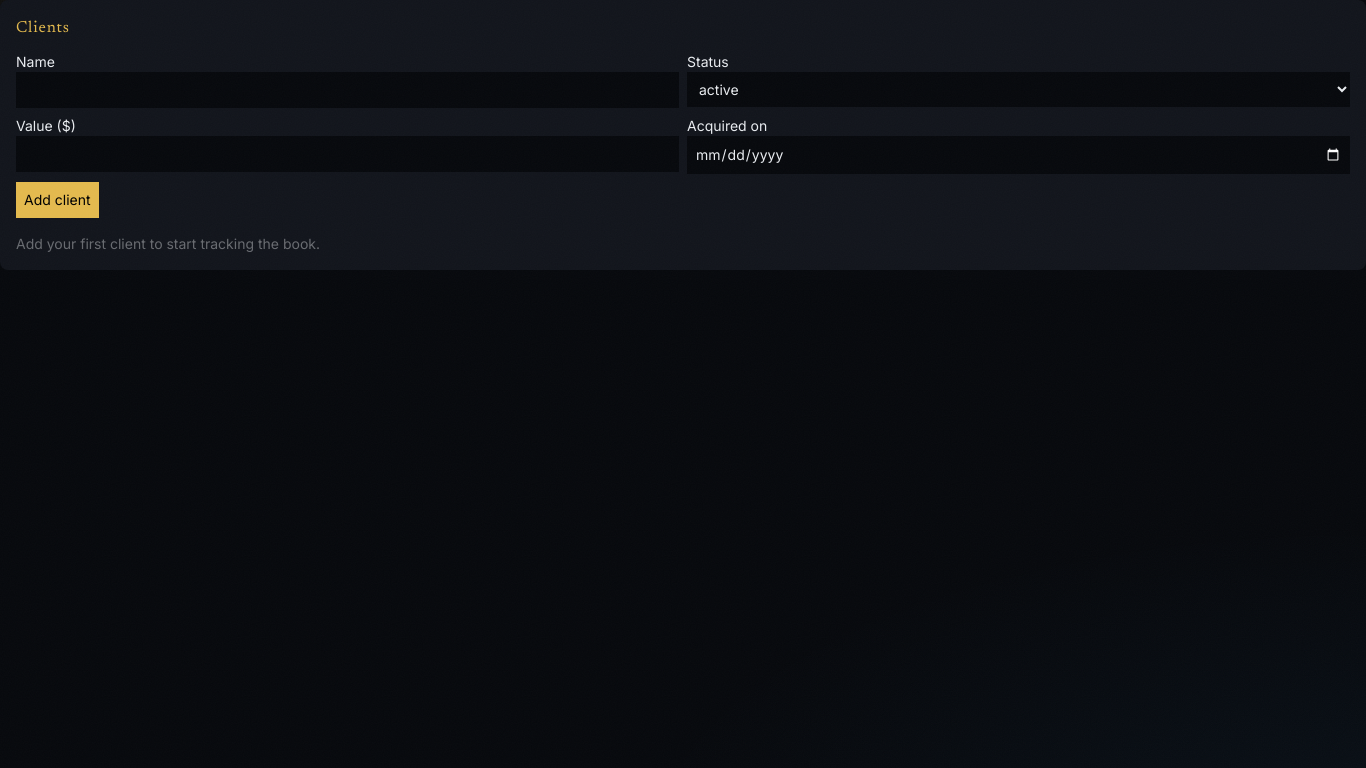
ClientsAdmin › surfaces a server validation error, never failing silently
Type "2026-01-01" into the date field labelled "Acquired on" at (1018, 155), box [687,136,1350,174]
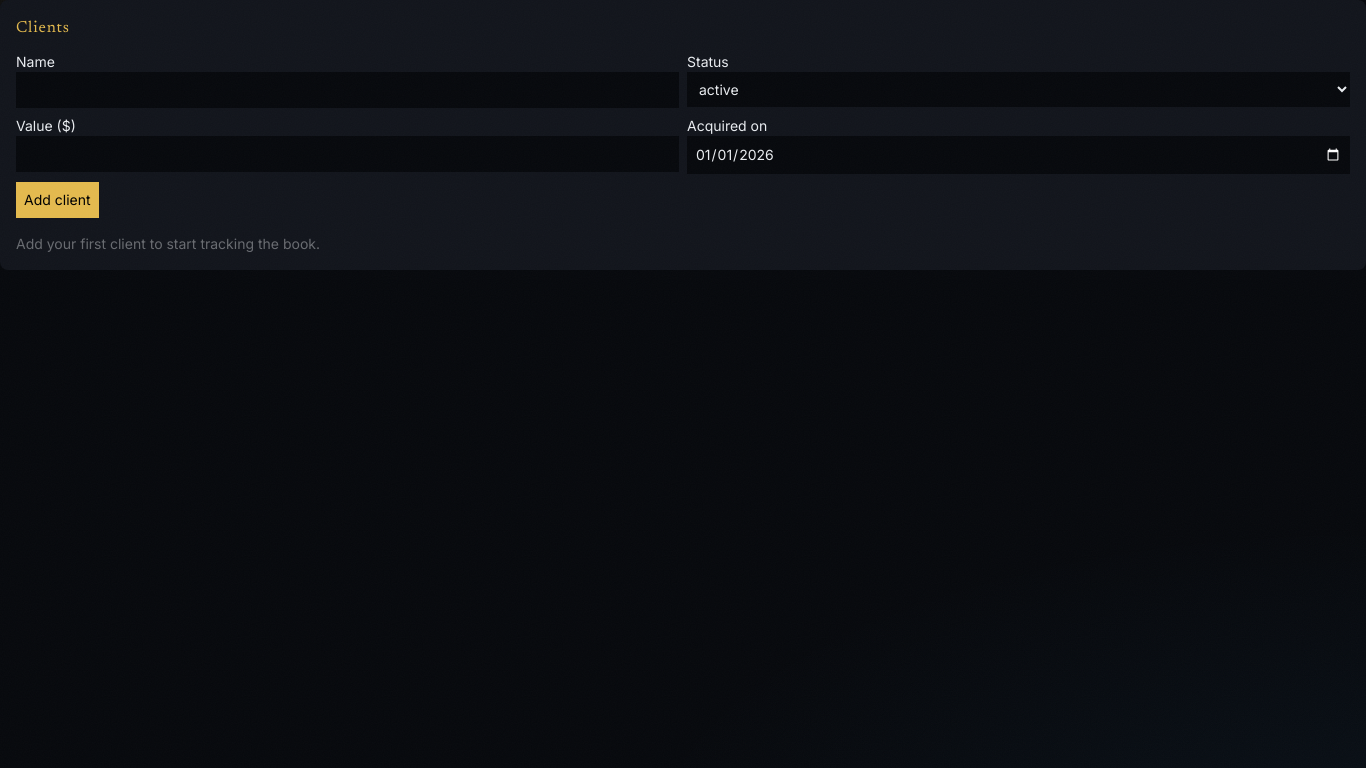
Click the button "Add client" at (57, 200), box [16,182,98,218]
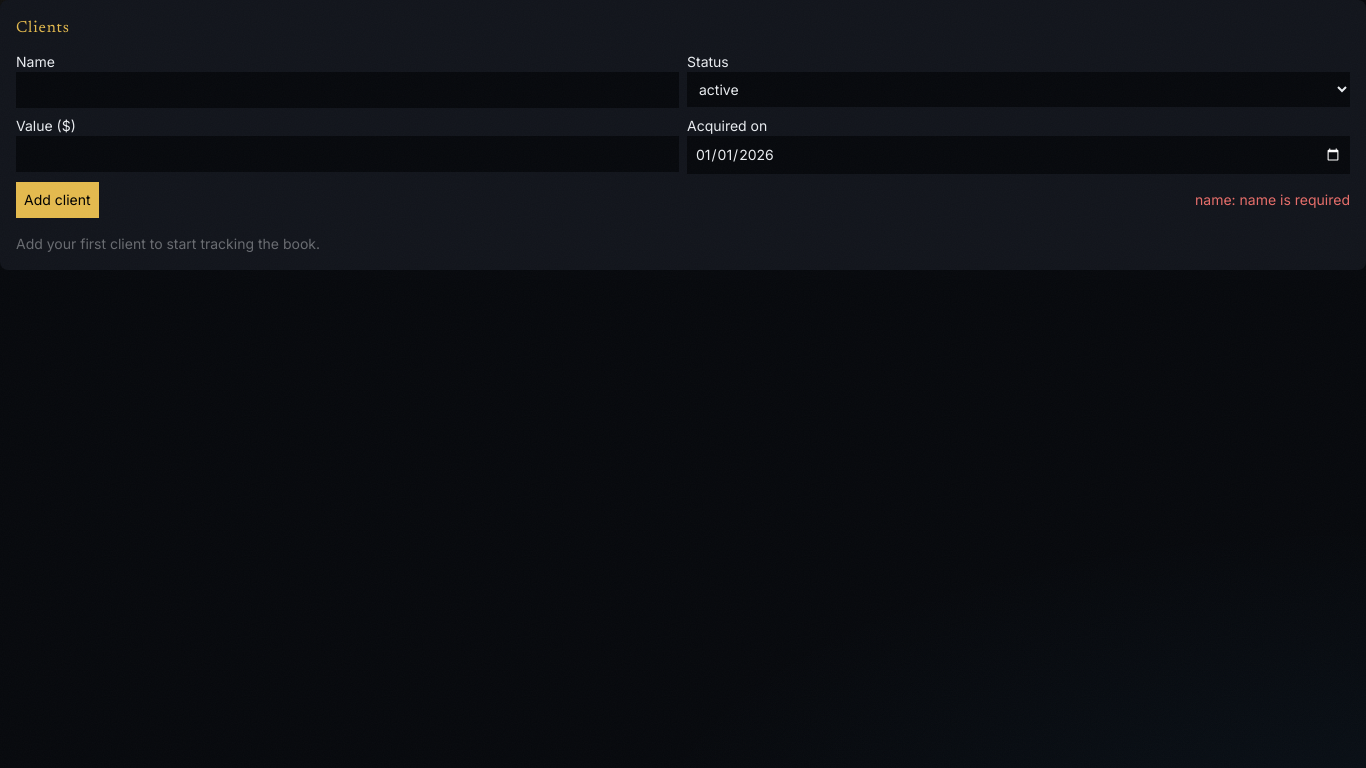
Result: the message shows "name is required" at [1195,191,1350,208]
